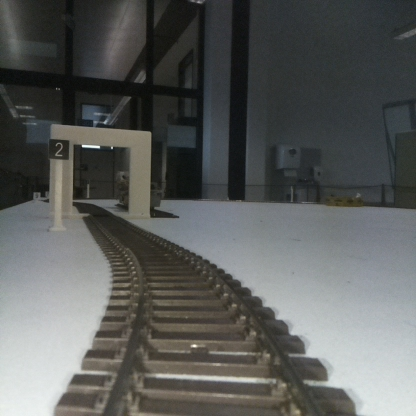black-info-2: (49, 139, 68, 230)
